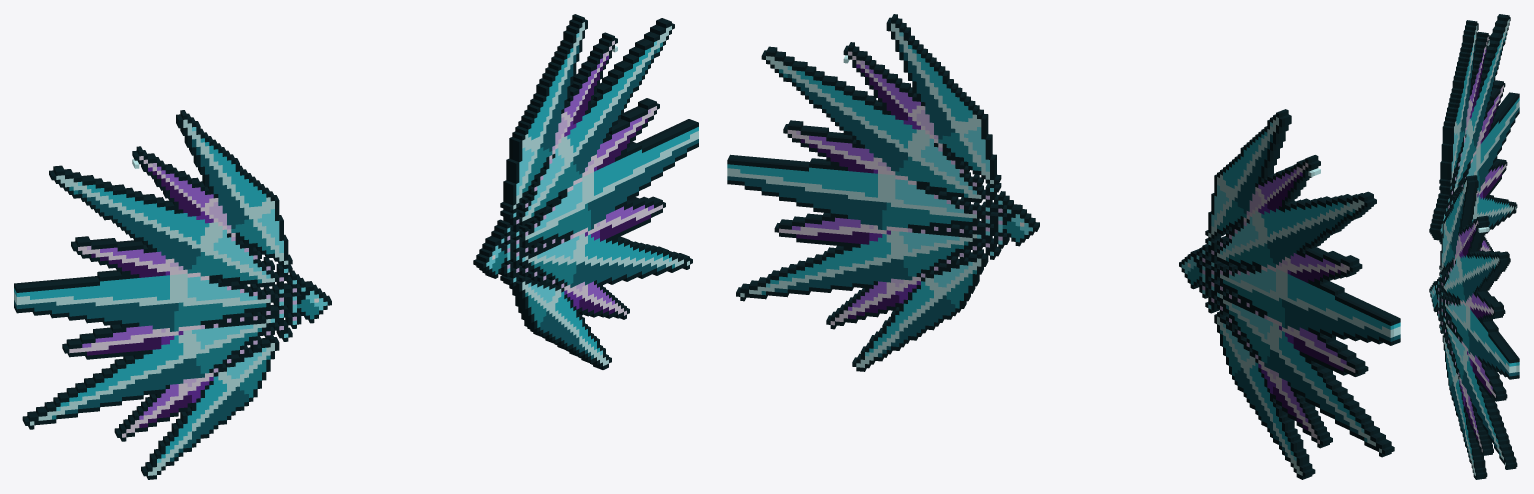
Rendered from prism_shard_wings.glb.
The picture shows the model from 3 angles, left to right: view 1: azimuth 30°, elevation 25°; view 2: azimuth 150°, elevation 25°; view 3: azimuth 270°, elevation 25°; orthographic projection. The views are drawn at different scales.
Parts seen in each view (by area): view 1: Prism Shard Wing Left, Prism Shard Wing Right; view 2: Prism Shard Wing Right, Prism Shard Wing Left; view 3: Prism Shard Wing Right, Prism Shard Wing Left.
Part boxes in pixels (x1,y1,x2,y2): Prism Shard Wing Left: [14, 110, 331, 479]; Prism Shard Wing Right: [473, 14, 698, 369]; Prism Shard Wing Right: [727, 14, 1039, 371]; Prism Shard Wing Left: [1179, 109, 1400, 479]; Prism Shard Wing Right: [1429, 175, 1519, 479]; Prism Shard Wing Left: [1429, 14, 1519, 251].
Bounding box in the file's own units: 2.75 × 1.39 × 0.3922.
1 material, 1 textured.
